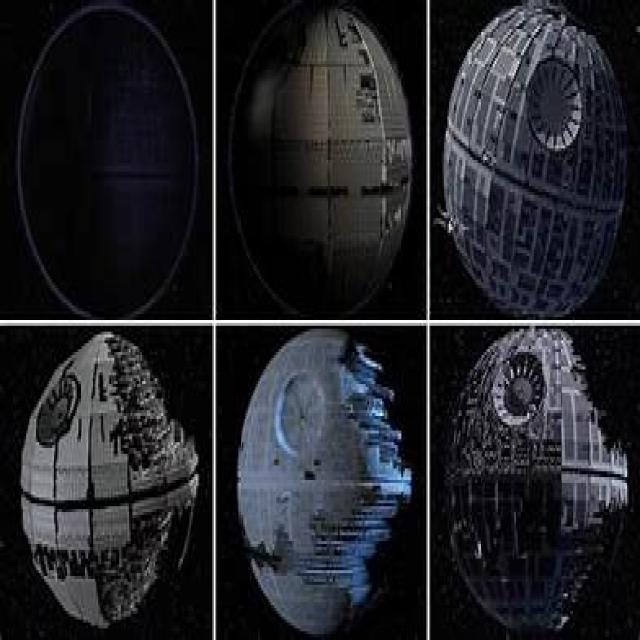deathStar: (445, 0, 631, 306), (227, 326, 414, 628), (446, 331, 629, 635), (232, 11, 413, 306), (19, 345, 202, 627)
